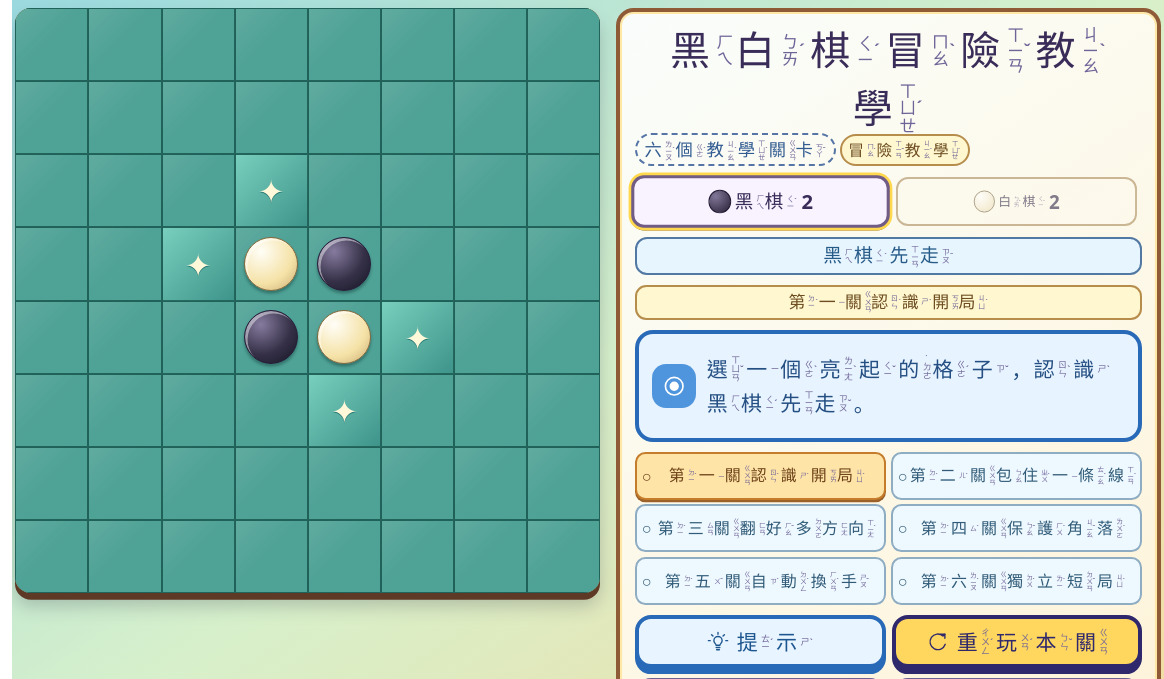
it: 黑白棋冒險互動教學畫面 › 第三關錯誤落子會保留在本關
The width and height of the screenshot is (1164, 679).
Click the button named "第三關翻好多方向" at (761, 528), box [635,504,886,552]
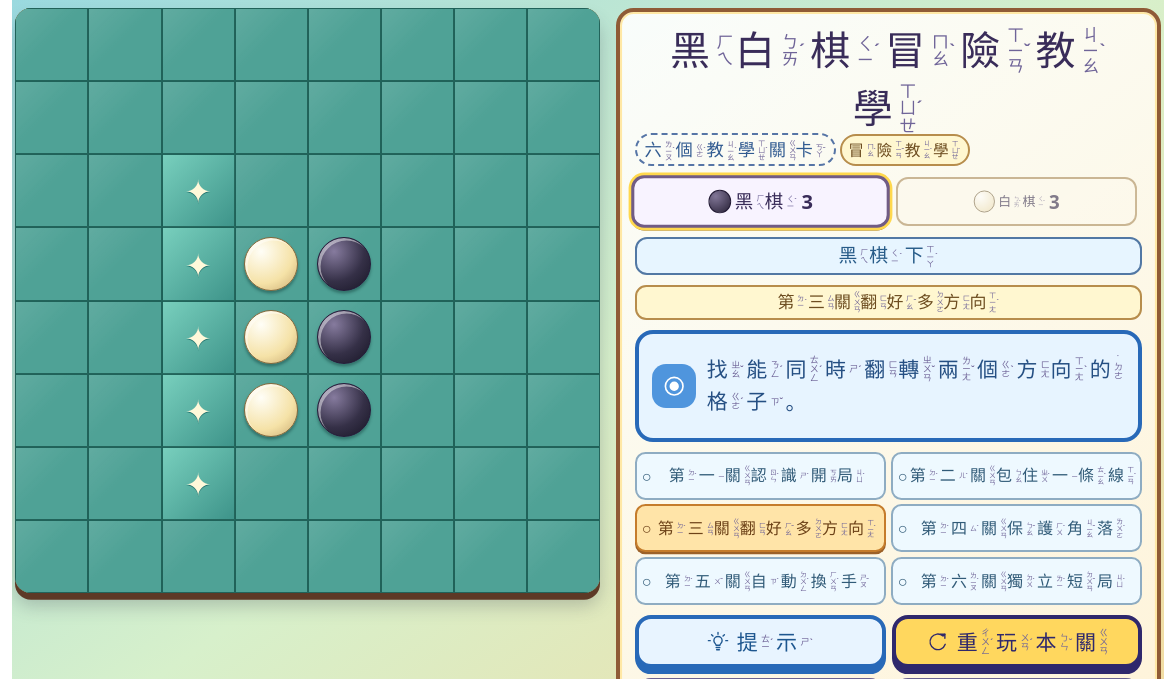
Click the cell named "可以落子的格子" at (198, 191), box [162,154,235,228]
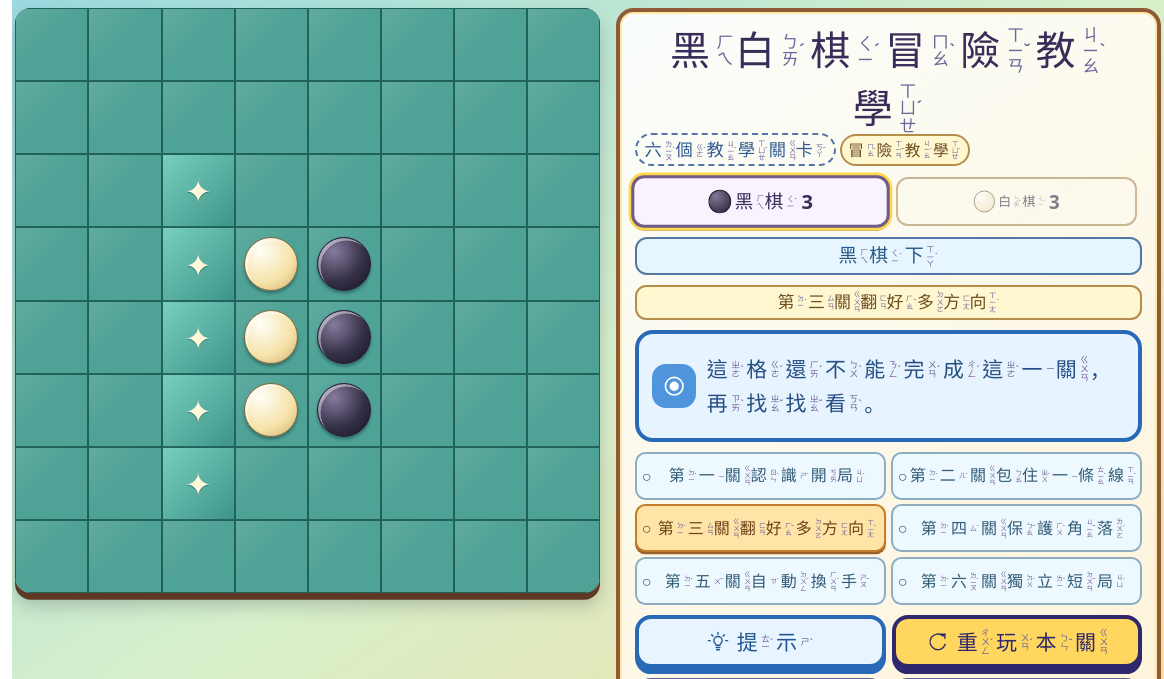
Expected: the element named "這格還不能完成這一關，再找找看。" is shown, [707,354,1126,418]
